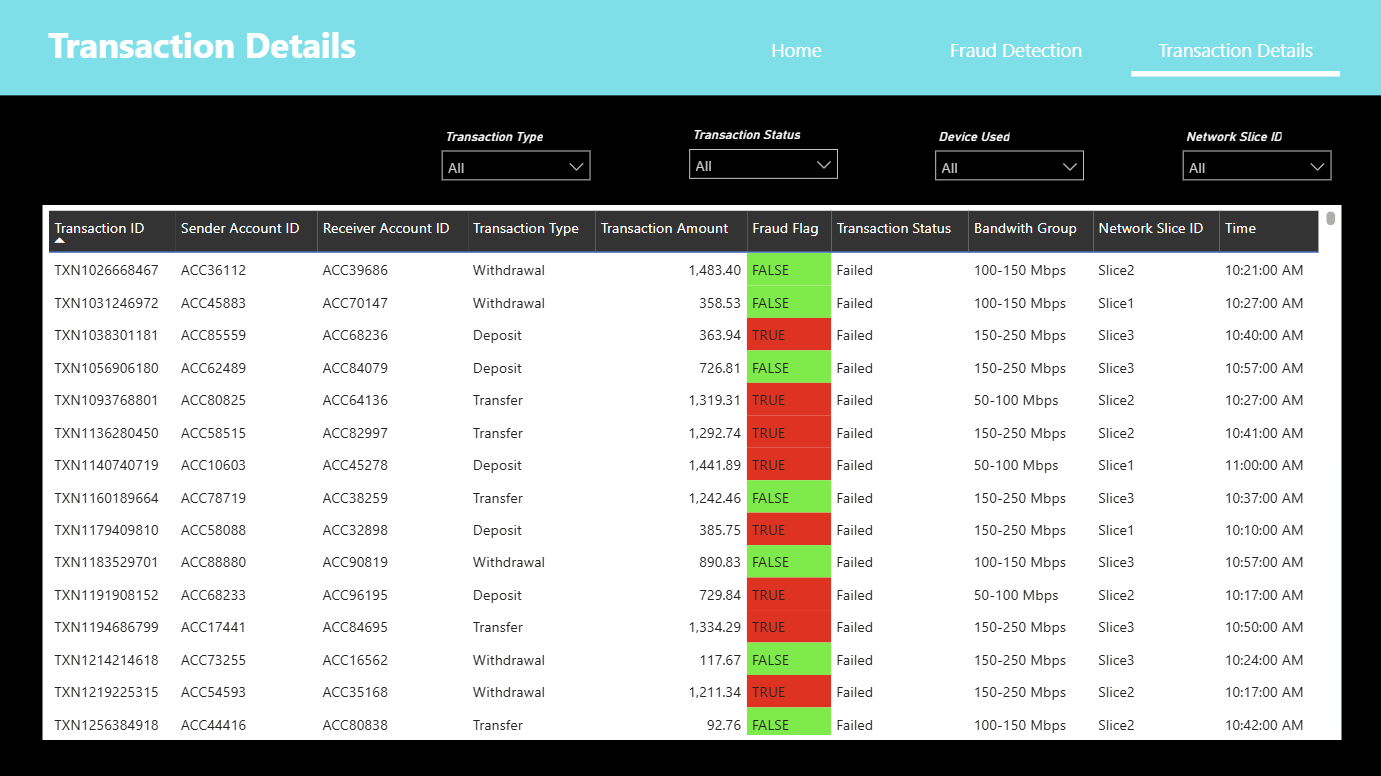

What the dashboard file says about the page in this screenshot:
{"tool":"powerbi","page":{"name":"Transaction Details","canvas":[1280,720],"ordinal":2},"visuals":[{"type":"tableEx","fields":{"Values":["bank transaction_data.Transaction ID","bank transaction_data.Sender Account ID","bank transaction_data.Receiver Account ID","bank transaction_data.Transaction Type","bank transaction_data.Transaction Amount","bank transaction_data.Fraud Flag","bank transaction_data.Transaction Status","bank transaction_data.Bandwith Group","bank transaction_data.Network Slice ID","bank transaction_data.Time"]},"box":[40,191.4,1200,494.3],"z":0},{"type":"shape","box":[0,0,1280,90],"z":1000},{"type":"textbox","box":[39.9,15.2,471.1,66.1],"z":2000},{"type":"pageNavigator","box":[640.6,23.4,600.6,49.6],"z":3000},{"type":"slicer","fields":{"Values":["bank transaction_data.Transaction Type"]},"box":[400,114.8,157,77.1],"z":4000},{"type":"slicer","fields":{"Values":["bank transaction_data.Transaction Status"]},"box":[628,114.3,157,77.1],"z":5000},{"type":"slicer","fields":{"Values":["bank transaction_data.Device Used"]},"box":[856.1,114.6,157,77.1],"z":6000},{"type":"slicer","fields":{"Values":["bank transaction_data.Network Slice ID"]},"box":[1084.2,114.5,157,77.1],"z":7000}]}

Visuals, with their boxes in screenshot pixels (x1, y1, x2, y2), scaled from the page's 1280x720 canvas onto the 1381x776 screenshot:
tableEx - bank transaction_data.Transaction ID x bank transaction_data.Sender Account ID: [43,206,1338,739]
shape: [0,0,1380,97]
textbox: [43,16,551,88]
pageNavigator: [691,25,1339,79]
slicer - bank transaction_data.Transaction Type: [432,124,601,207]
slicer - bank transaction_data.Transaction Status: [678,123,847,206]
slicer - bank transaction_data.Device Used: [924,124,1093,207]
slicer - bank transaction_data.Network Slice ID: [1170,123,1339,207]
